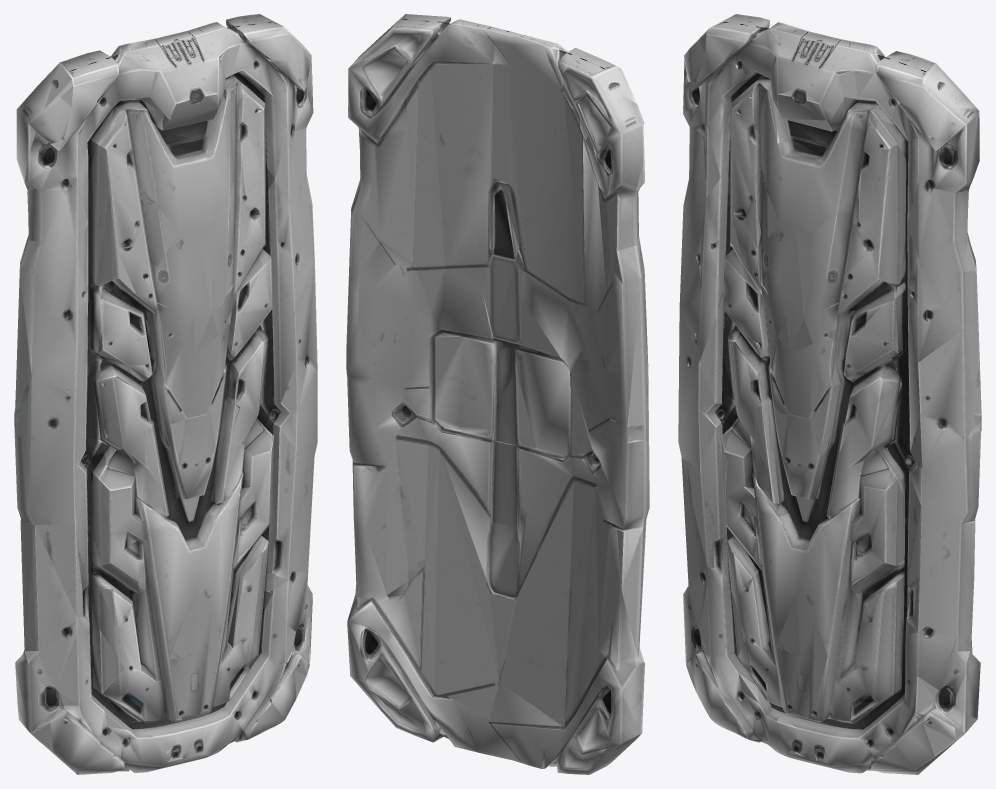
File: Weapon_Shield.fbx
The picture shows the model from 3 angles, left to right: view 1: azimuth 30°, elevation 25°; view 2: azimuth 150°, elevation 25°; view 3: azimuth 330°, elevation 25°; orthographic projection.
Parts seen in each view (by area): view 1: Mesh_0; view 2: Mesh_0; view 3: Mesh_0.
Boxes of the visible parts, box(x1,y1,x2,y2) form: Mesh_0: box(14, 14, 317, 774); Mesh_0: box(346, 14, 649, 774); Mesh_0: box(678, 14, 981, 774).
Bounding box in the file's own units: 81.98 × 190 × 23.54.
1 material, 1 textured.
